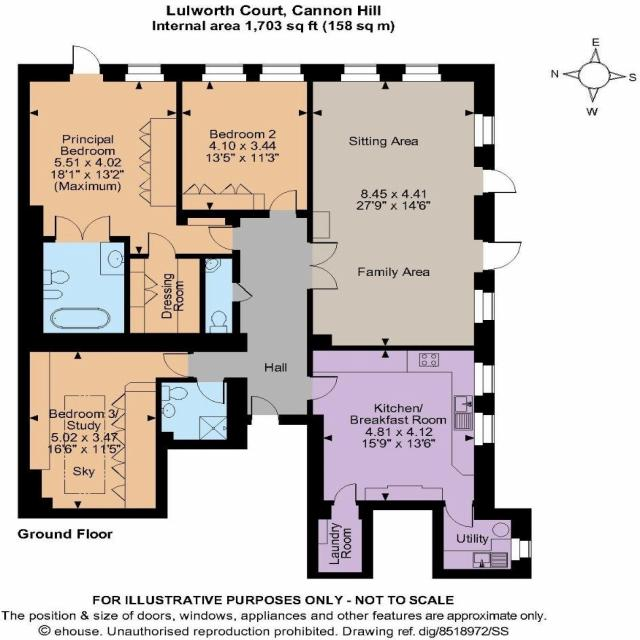DOOR: (474, 238, 522, 274), (473, 165, 517, 197), (68, 45, 104, 81), (250, 395, 280, 425), (444, 500, 474, 529), (268, 189, 298, 218), (146, 231, 177, 259), (207, 225, 240, 251), (195, 377, 225, 405), (307, 375, 339, 401), (162, 352, 194, 378), (332, 483, 358, 506)
ROOM: (307, 63, 522, 351), (18, 44, 241, 259), (307, 345, 496, 528), (17, 333, 195, 519), (176, 63, 314, 218)
WINDOW: (201, 63, 247, 82), (259, 63, 304, 82), (473, 288, 496, 324), (125, 63, 165, 83), (473, 361, 495, 397), (473, 412, 495, 446), (340, 64, 380, 82), (402, 64, 442, 82), (474, 113, 495, 147), (510, 538, 532, 561)
